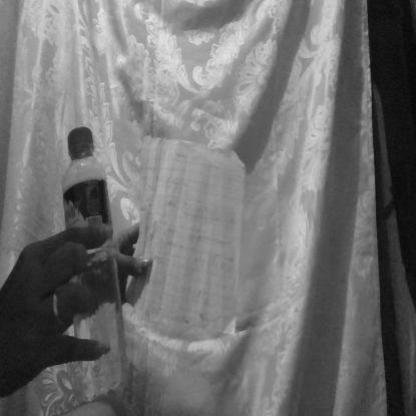Plastic Bottle: (48, 94, 137, 408)
